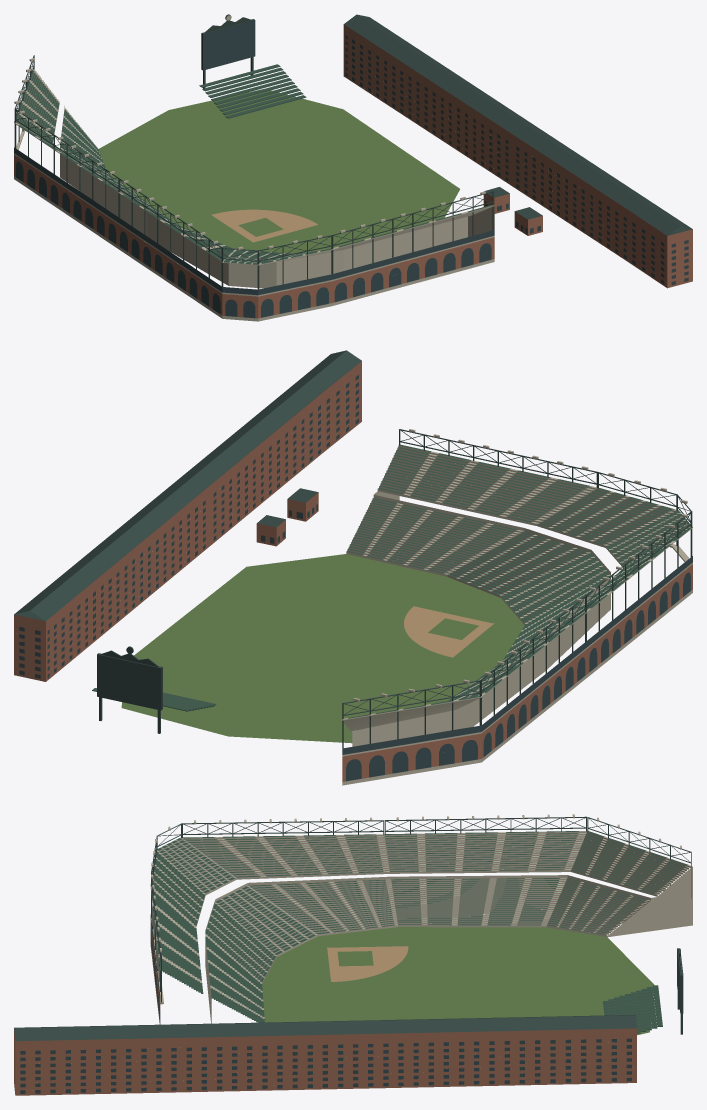
File: oriole-park-camden-yards-near.glb
3 views of the same model, one above another, from view 1: azimuth 30°, elevation 25°; view 2: azimuth 150°, elevation 25°; view 3: azimuth 270°, elevation 25° (orthographic). The views are drawn at different scales.
Visible parts, largest first — view 1: oriole-park-camden-yards-0-grass, oriole-park-camden-yards-0-brick, oriole-park-camden-yards-0-stone, oriole-park-camden-yards-0-glass, oriole-park-camden-yards-0-steel, oriole-park-camden-yards-0-seat, oriole-park-camden-yards-0-column, oriole-park-camden-yards-0-dirt; view 2: oriole-park-camden-yards-0-grass, oriole-park-camden-yards-0-stone, oriole-park-camden-yards-0-brick, oriole-park-camden-yards-0-seat, oriole-park-camden-yards-0-steel, oriole-park-camden-yards-0-glass, oriole-park-camden-yards-0-column, oriole-park-camden-yards-0-dirt; view 3: oriole-park-camden-yards-0-stone, oriole-park-camden-yards-0-seat, oriole-park-camden-yards-0-brick, oriole-park-camden-yards-0-grass, oriole-park-camden-yards-0-steel, oriole-park-camden-yards-0-glass, oriole-park-camden-yards-0-dirt, oriole-park-camden-yards-0-column.
Boxes of the visible parts, x1,y1,x2,y2 form: oriole-park-camden-yards-0-grass: [98, 89, 459, 253]; oriole-park-camden-yards-0-brick: [14, 24, 692, 318]; oriole-park-camden-yards-0-stone: [14, 15, 494, 321]; oriole-park-camden-yards-0-glass: [14, 20, 688, 318]; oriole-park-camden-yards-0-steel: [15, 14, 692, 261]; oriole-park-camden-yards-0-seat: [14, 64, 493, 264]; oriole-park-camden-yards-0-column: [14, 55, 493, 289]; oriole-park-camden-yards-0-dirt: [211, 209, 317, 242]; oriole-park-camden-yards-0-grass: [121, 554, 524, 743]; oriole-park-camden-yards-0-stone: [342, 429, 692, 785]; oriole-park-camden-yards-0-brick: [14, 361, 692, 781]; oriole-park-camden-yards-0-seat: [92, 444, 692, 730]; oriole-park-camden-yards-0-steel: [14, 350, 691, 733]; oriole-park-camden-yards-0-glass: [19, 375, 692, 781]; oriole-park-camden-yards-0-column: [342, 429, 692, 748]; oriole-park-camden-yards-0-dirt: [404, 606, 493, 657]; oriole-park-camden-yards-0-stone: [150, 814, 692, 1024]; oriole-park-camden-yards-0-seat: [150, 831, 688, 1033]; oriole-park-camden-yards-0-brick: [14, 922, 636, 1095]; oriole-park-camden-yards-0-grass: [262, 927, 654, 1035]; oriole-park-camden-yards-0-steel: [14, 816, 690, 1041]; oriole-park-camden-yards-0-glass: [20, 914, 680, 1093]; oriole-park-camden-yards-0-dirt: [327, 946, 408, 981]; oriole-park-camden-yards-0-column: [151, 816, 691, 1002].
Bounding box in the file's own units: 247 × 42 × 343.
